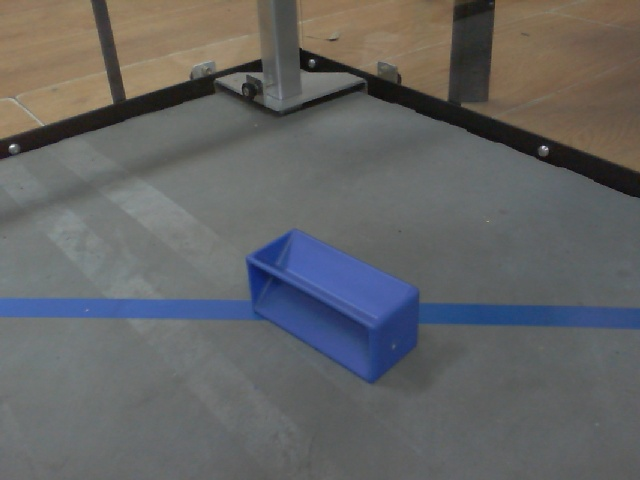BlueSample: (244, 224, 423, 388)
